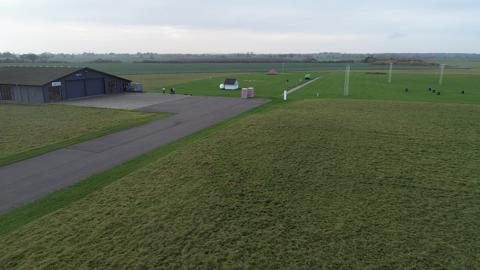RockwoolPallet: (247, 88, 255, 97)
